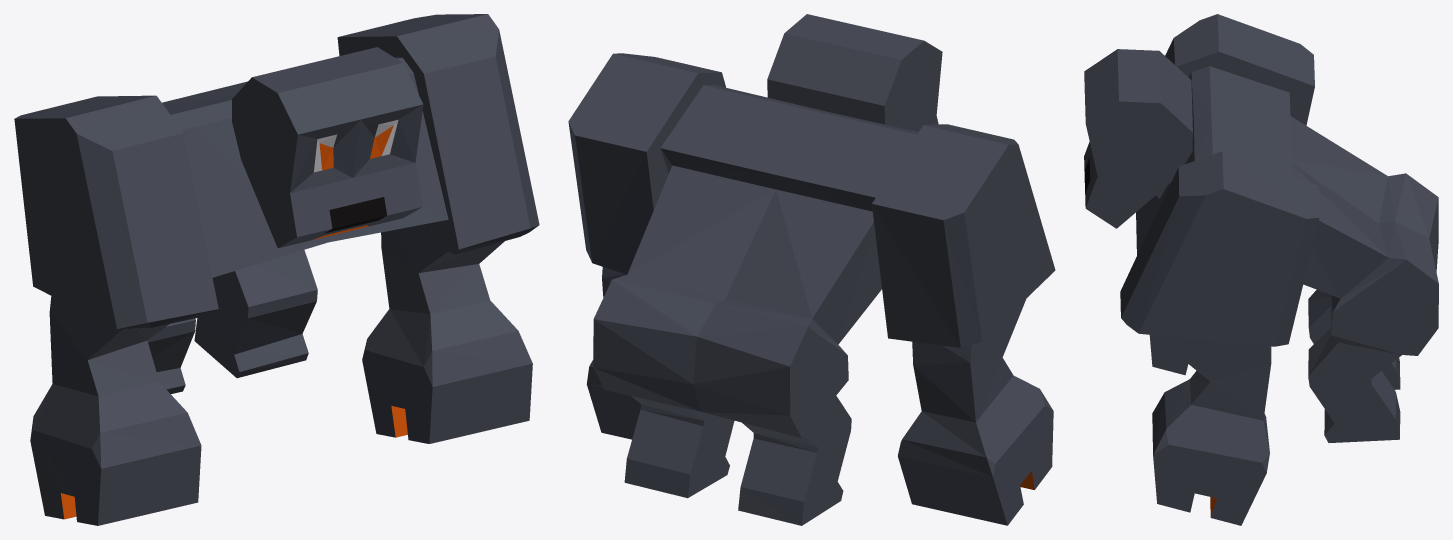
The model's file is kong_000020.obj.
3 views of the same model, side by side, from view 1: azimuth 30°, elevation 25°; view 2: azimuth 150°, elevation 25°; view 3: azimuth 270°, elevation 25° (orthographic). The views are drawn at different scales.
Visible parts, largest first — view 1: Cube; view 2: Cube; view 3: Cube.
Part boxes in pixels (box(x1,y1,x2,y2)): Cube: box(14, 14, 539, 525); Cube: box(568, 14, 1055, 525); Cube: box(1084, 14, 1438, 525).
Bounding box in the file's own units: 5.85 × 5.59 × 4.93.
1 material, 1 textured.
